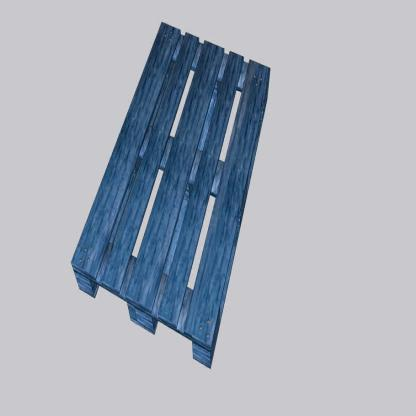BoxFace: (70, 14, 273, 381)
